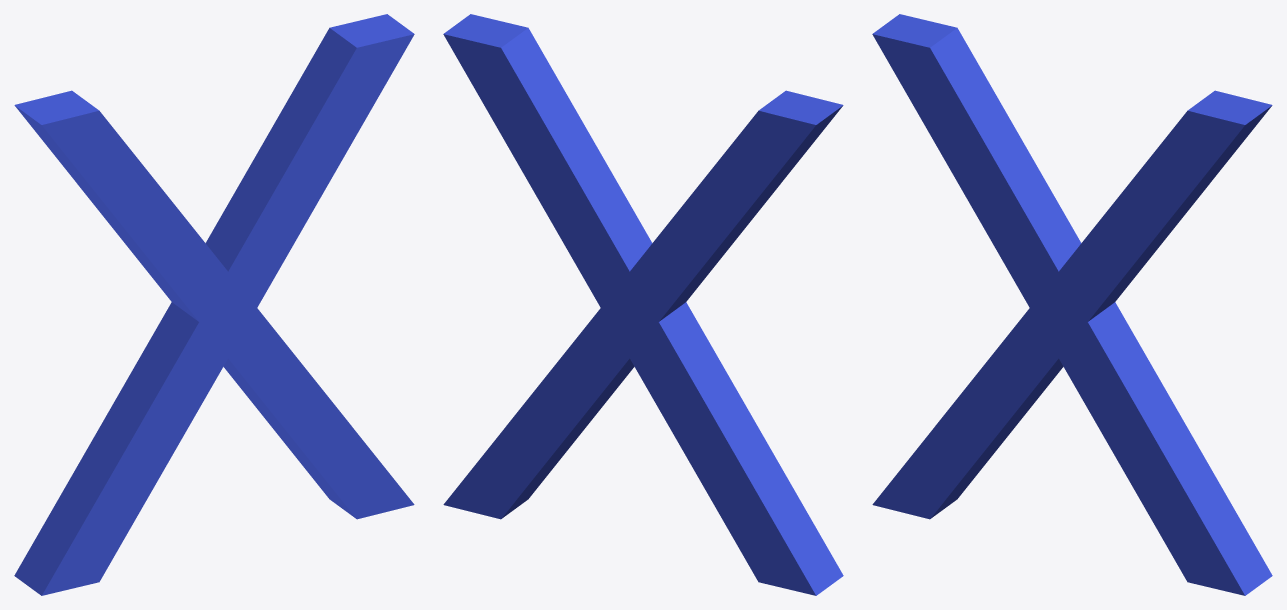
The model's file is krzyzyk.glb.
3 views of the same model, side by side, from view 1: azimuth 30°, elevation 25°; view 2: azimuth 150°, elevation 25°; view 3: azimuth 330°, elevation 25° (orthographic).
Visible parts, largest first — view 1: Cube; view 2: Cube; view 3: Cube.
Part boxes in pixels (bbox=[...]): Cube: bbox=[14, 14, 414, 595]; Cube: bbox=[443, 14, 843, 595]; Cube: bbox=[872, 14, 1272, 595].
Size of the model in its own units: 3.53 by 4.26 by 0.4496.
